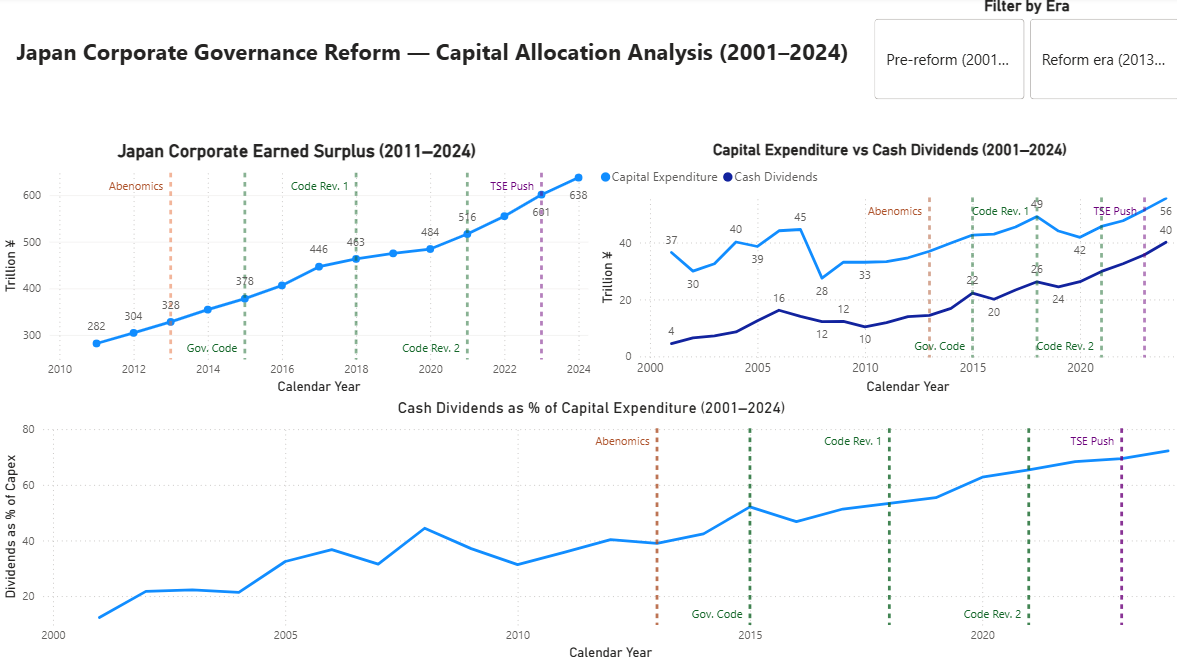

This screenshot's page, from the dashboard's own definition file:
{"tool":"powerbi","page":{"name":"Capital Allocation Analysis","canvas":[1280,720],"ordinal":0},"visuals":[{"type":"textbox","box":[14.9,36.4,926,58],"z":0},{"type":"lineChart","title":"Japan Corporate Earned Surplus (2011–2024)","fields":{"Category":["japan_master.Calendar_Year"],"Y":["Sum(japan_master.Earned_Surplus_Trillion_Yen)"]},"box":[0,155.7,644.4,278.3],"z":1000},{"type":"lineChart","title":"Capital Expenditure vs Cash Dividends (2001–2024)","fields":{"Category":["japan_master.Calendar_Year"],"Y":["Sum(japan_master.Capex_Trillion_Yen)","Sum(japan_master.Dividends_Trillion_Yen)"]},"box":[644.4,155.7,636.1,278.3],"z":2000},{"type":"lineChart","title":"Cash Dividends as % of Capital Expenditure (2001–2024)","fields":{"Category":["japan_master.Calendar_Year"],"Y":["Sum(japan_master.Dividends_Pct_of_Capex)"]},"box":[0,434,1280.8,286.6],"z":3000},{"type":"advancedSlicerVisual","title":"Filter by Era","fields":{"Values":["japan_master.Era"]},"box":[940.8,0,340,116.6],"z":4000}]}

Visuals, with their boxes in screenshot pixels (x1, y1, x2, y2), scaled from the page's 1280x720 canvas onto the 1177x661 screenshot:
textbox: [14,33,865,87]
"Japan Corporate Earned Surplus (2011–2024)" lineChart: [0,143,593,398]
"Capital Expenditure vs Cash Dividends (2001–2024)" lineChart: [593,143,1176,398]
"Cash Dividends as % of Capital Expenditure (2001–2024)" lineChart: [0,398,1176,660]
"Filter by Era" advancedSlicerVisual: [865,0,1176,107]
